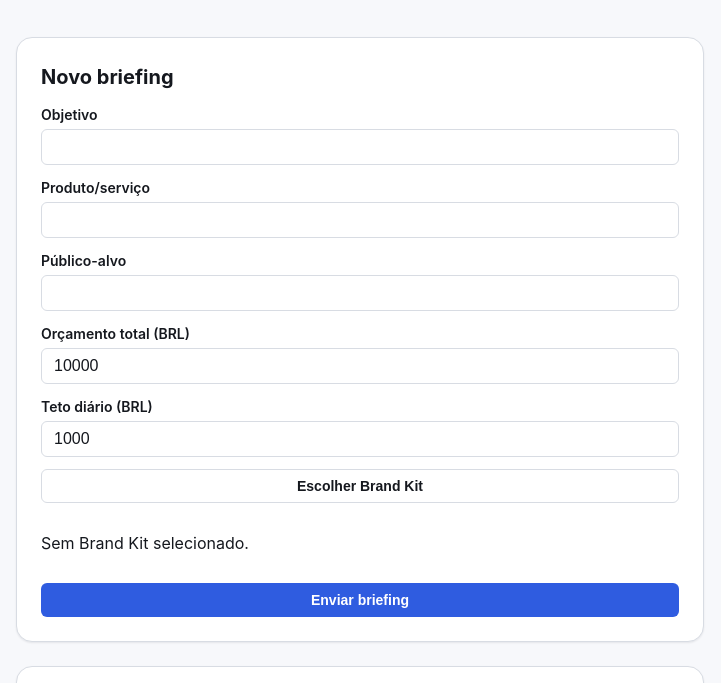
Scenario: CampaignsPage › explicit brand selection sends the displayed version and selected asset IDs
This screenshot has width=721, height=683.
Expected: the text "Sem Brand Kit selecionado." is shown, [41,533,249,553]
Click the button "Escolher Brand Kit" at (360, 486), box [41,469,679,503]
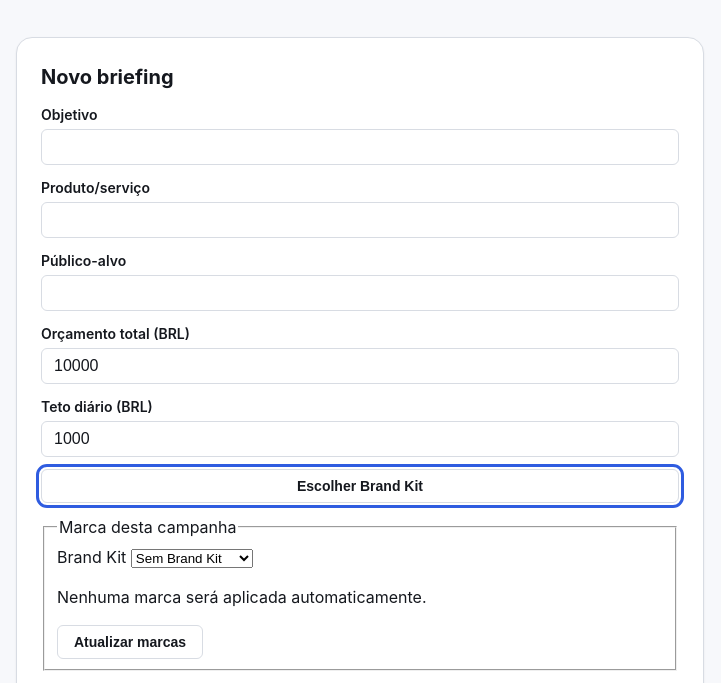
Expected: the dropdown named "Brand Kit da campanha" shows "Sem Brand Kit"
Select "Marca · versão 2" in the dropdown named "Brand Kit da campanha" at (192, 558), box [131,549,253,568]
(page scrolled)
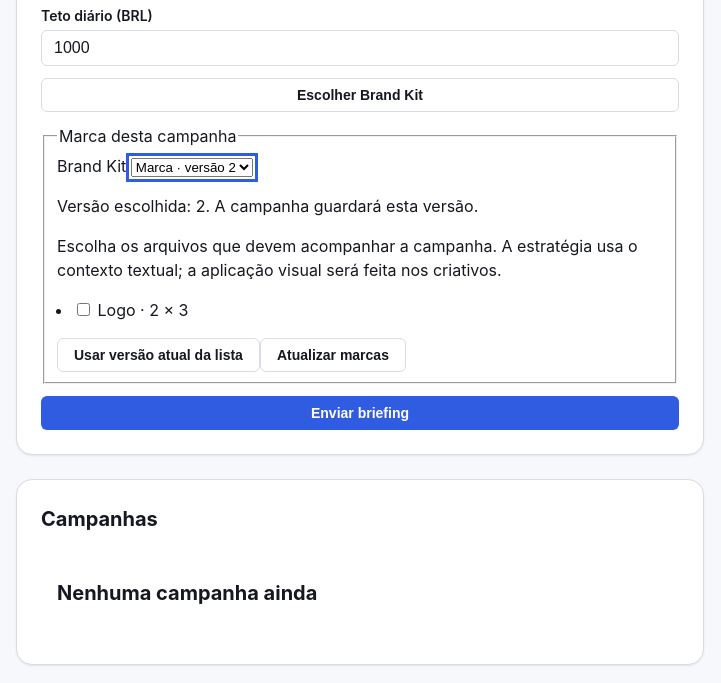
Click the checkbox at (84, 309), box [77,303,90,316]
(page scrolled)
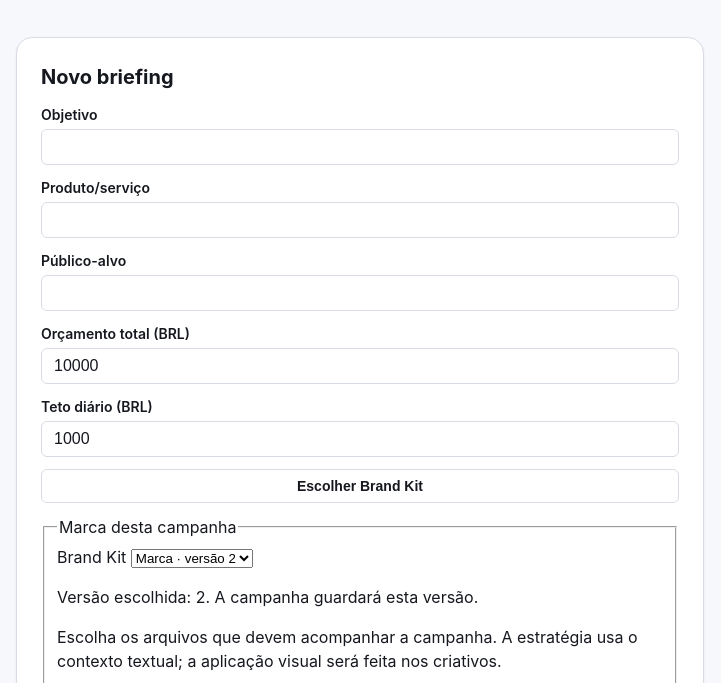
Type "Campanha selecionada" into the field labelled "Objetivo" at (360, 147), box [41,129,679,165]
(page scrolled)
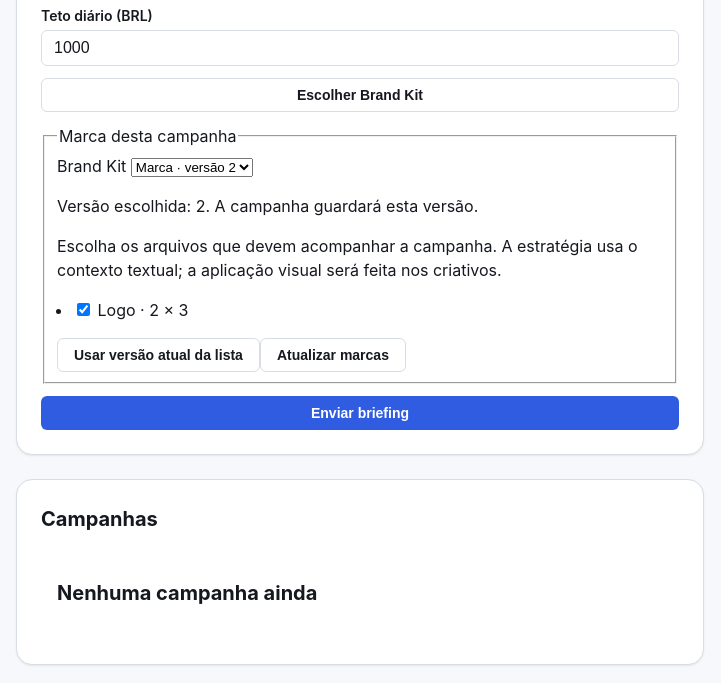
Click the button "Enviar briefing" at (360, 413), box [41,396,679,430]
(page scrolled)
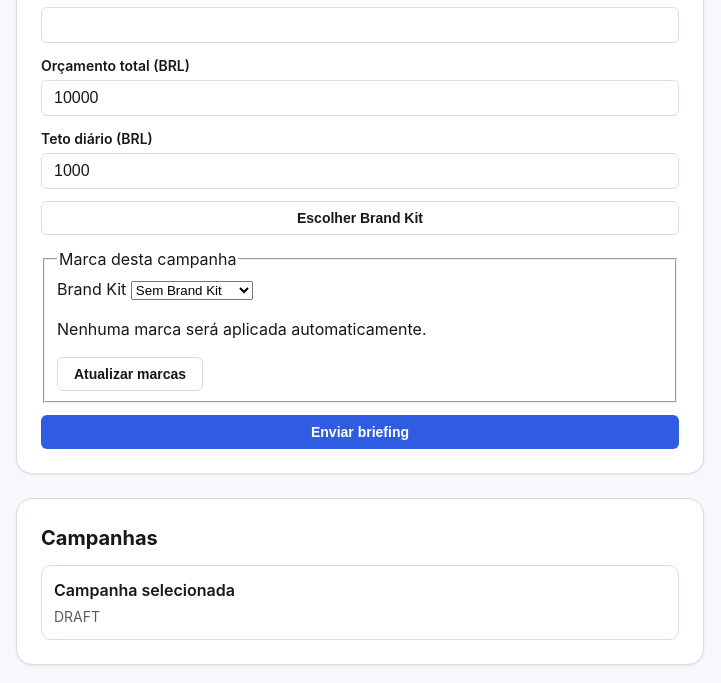
Expected: the text "Campanha selecionada" is shown, [54,580,235,600]
